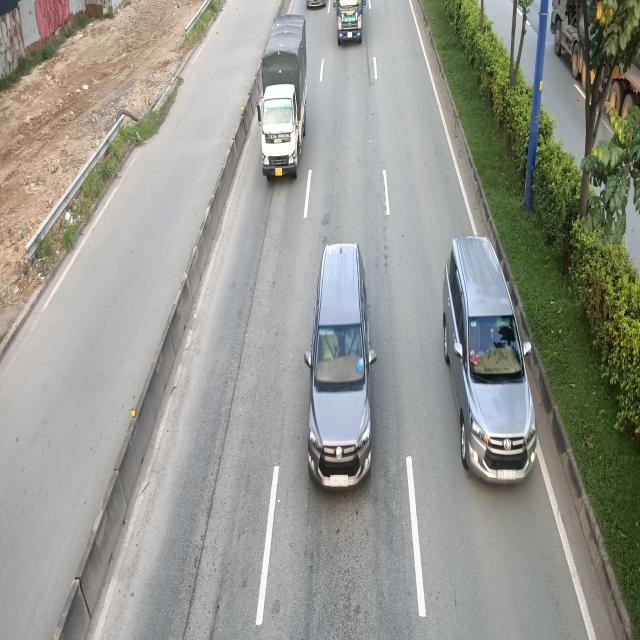car: (441, 242, 533, 488), (303, 244, 377, 492)
truck: (257, 11, 309, 179)
